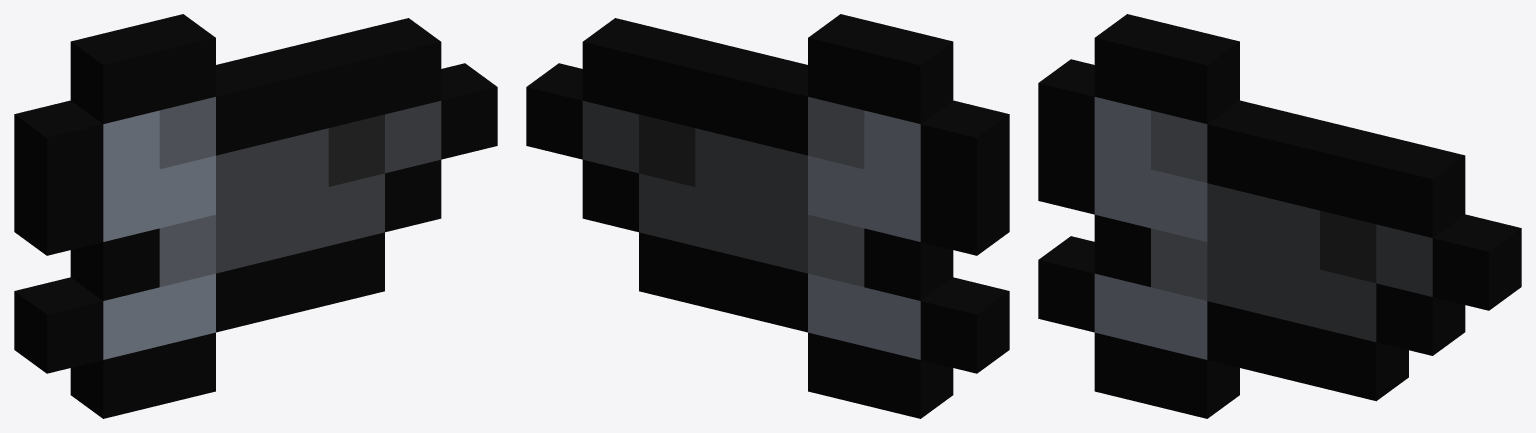
File: Coastal Mullet.glb
3 views of the same model, side by side, from view 1: azimuth 30°, elevation 25°; view 2: azimuth 150°, elevation 25°; view 3: azimuth 330°, elevation 25° (orthographic).
Parts seen in each view (by area): view 1: generated(Clone); view 2: generated(Clone); view 3: generated(Clone).
Part boxes in pixels (box(x1,y1,x2,y2)): generated(Clone): box(14, 14, 497, 418); generated(Clone): box(526, 14, 1009, 418); generated(Clone): box(1038, 14, 1521, 418).
Size of the model in its own units: 8 by 6 by 1.
1 material, 1 textured.
